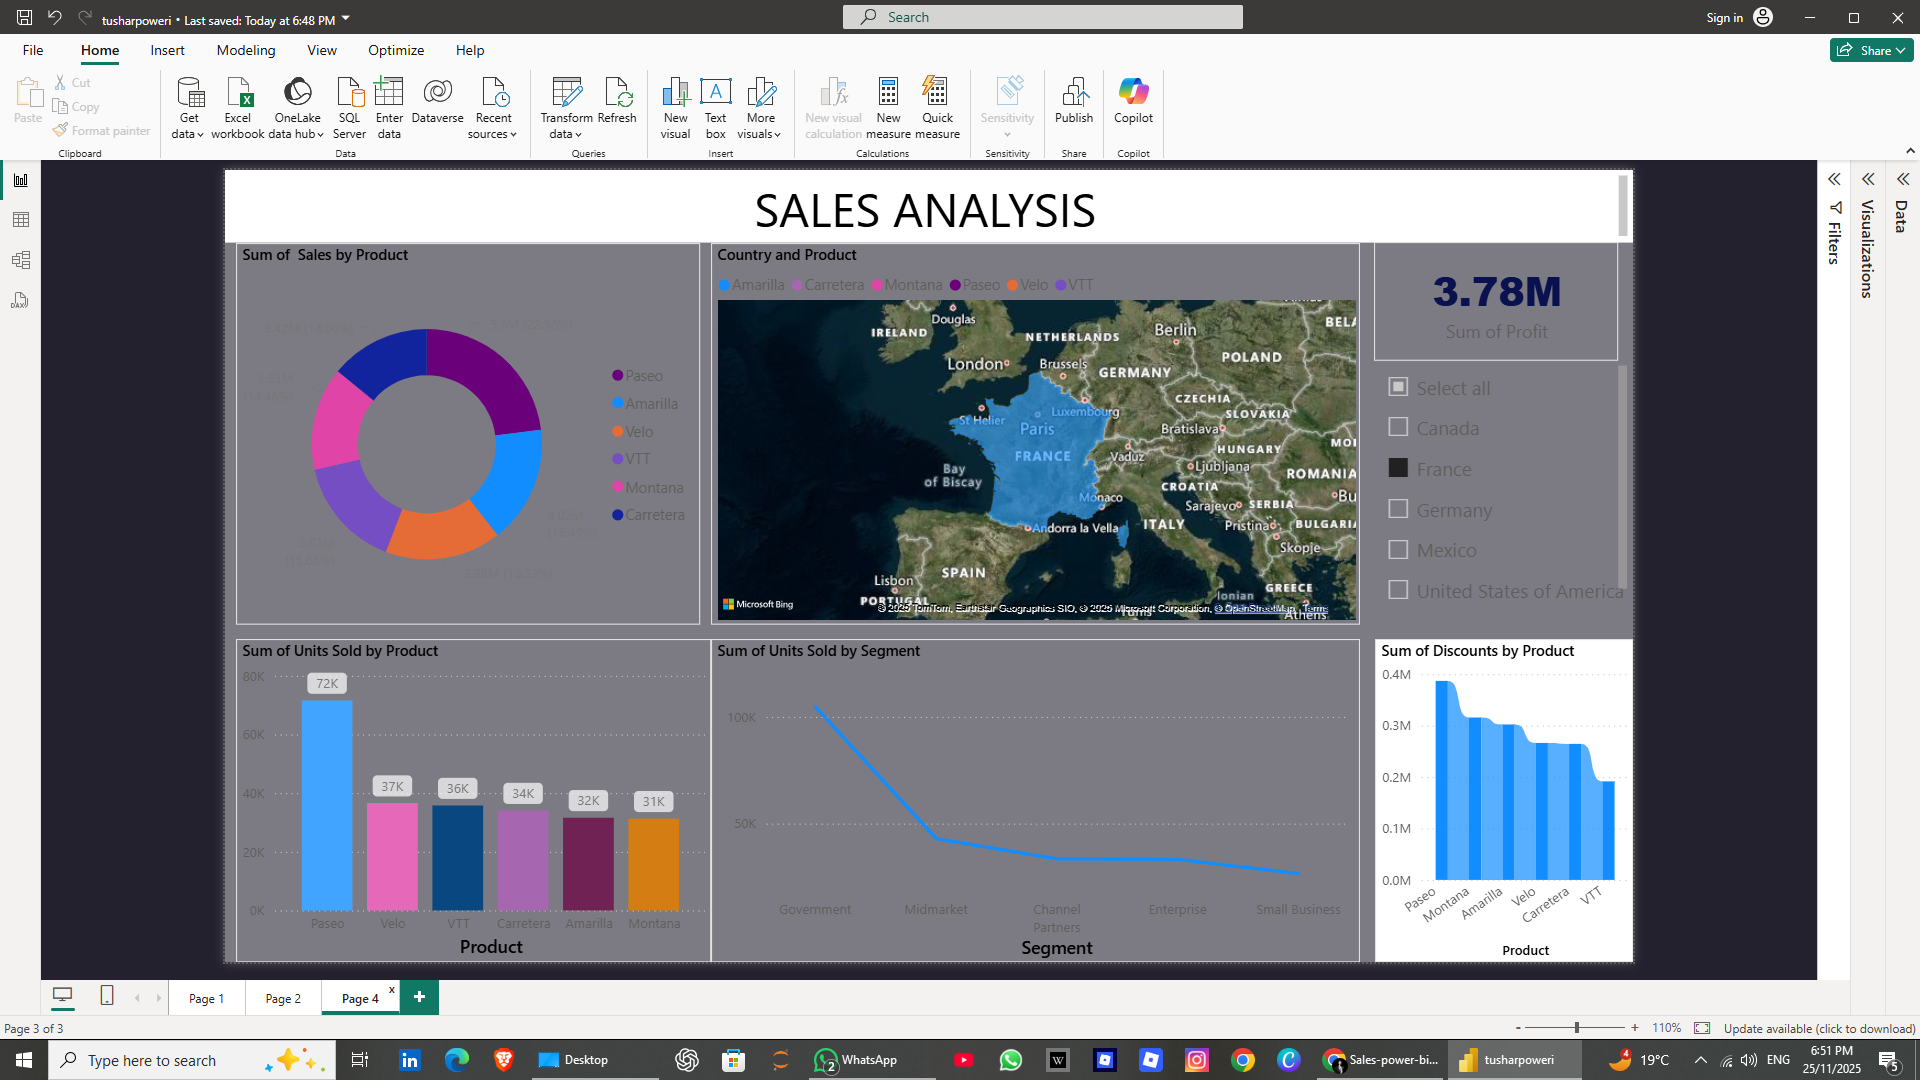

What the dashboard file says about the page in this screenshot:
{"tool":"powerbi","page":{"name":"Page 4","canvas":[1280,720],"ordinal":3},"visuals":[{"type":"donutChart","fields":{"Y":["Sum(financials. Sales)"],"Category":["financials.Product"]},"box":[10.1,66.2,421.9,347],"z":0},{"type":"textbox","box":[0,0,1280.2,66.2],"z":1000},{"type":"filledMap","fields":{"Category":["financials.Country"],"Series":["financials.Product"]},"box":[442.1,66.2,590.4,347],"z":2000},{"type":"lineClusteredColumnComboChart","fields":{"Y":["Sum(financials.Units Sold)"],"Category":["financials.Product"]},"box":[10.1,426.2,432,293.8],"z":3000},{"type":"slicer","fields":{"Values":["financials.Country"]},"box":[1044.8,173,235.2,225.1],"z":4000},{"type":"card","fields":{"Values":["Sum(financials.Profit)"]},"box":[1044.8,65.5,221.7,107.5],"z":5000},{"type":"lineChart","fields":{"Category":["financials.Segment"],"Y":["Sum(financials.Units Sold)"]},"box":[442,426,590,294],"z":6000},{"type":"ribbonChart","fields":{"Y":["Sum(financials.Discounts)"],"Category":["financials.Product"]},"box":[1045,426,235,294],"z":7000}]}

Visuals, with their boxes on the page's 1280x720 design canvas (x1, y1, x2, y2). These are canvas units, not pixel positions in the 1920x1080 screenshot, which may show the page scaled, cropped or inside an application window:
donutChart - Sum(financials. Sales) x financials.Product: <region>10, 66, 432, 413</region>
textbox: <region>0, 0, 1280, 66</region>
filledMap - financials.Country x financials.Product: <region>442, 66, 1032, 413</region>
lineClusteredColumnComboChart - Sum(financials.Units Sold) x financials.Product: <region>10, 426, 442, 720</region>
slicer - financials.Country: <region>1045, 173, 1280, 398</region>
card - Sum(financials.Profit): <region>1045, 66, 1266, 173</region>
lineChart - financials.Segment x Sum(financials.Units Sold): <region>442, 426, 1032, 720</region>
ribbonChart - Sum(financials.Discounts) x financials.Product: <region>1045, 426, 1280, 720</region>
